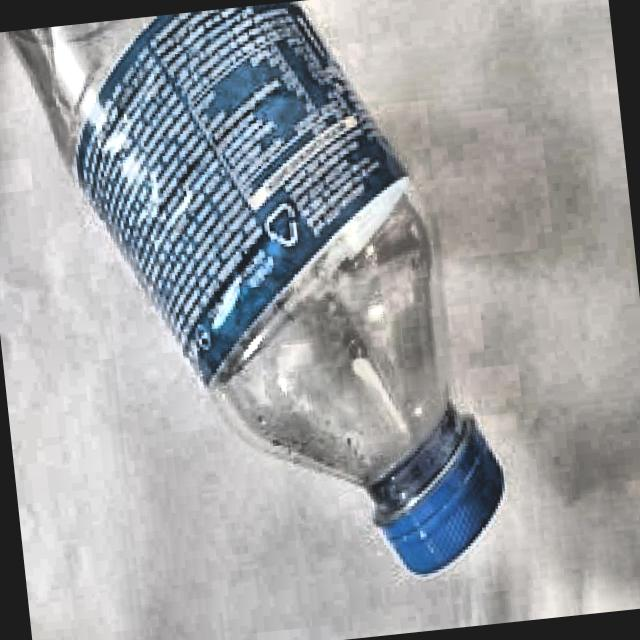plastic bottle: (10, 1, 502, 575)
